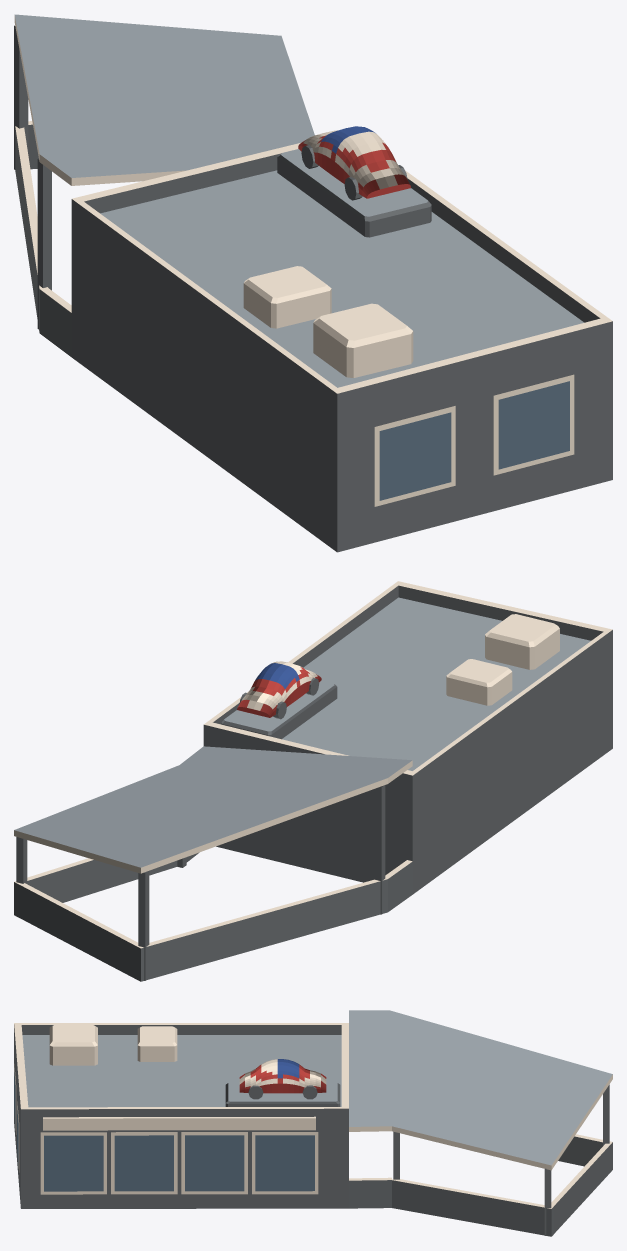
The model's file is clt-pinkys-westside.glb.
3 renders of one model, top to bottom at view 1: azimuth 30°, elevation 25°; view 2: azimuth 150°, elevation 25°; view 3: azimuth 270°, elevation 25°, orthographic. The views are drawn at different scales.
Visible parts, largest first — view 1: Pinky's Westside Grill; view 2: Pinky's Westside Grill; view 3: Pinky's Westside Grill.
Boxes of the visible parts, bbox=[...] form: Pinky's Westside Grill: bbox=[14, 14, 612, 552]; Pinky's Westside Grill: bbox=[14, 581, 612, 981]; Pinky's Westside Grill: bbox=[14, 1010, 612, 1236].
Size of the model in its own units: 12.25 by 6.59 by 27.19.
